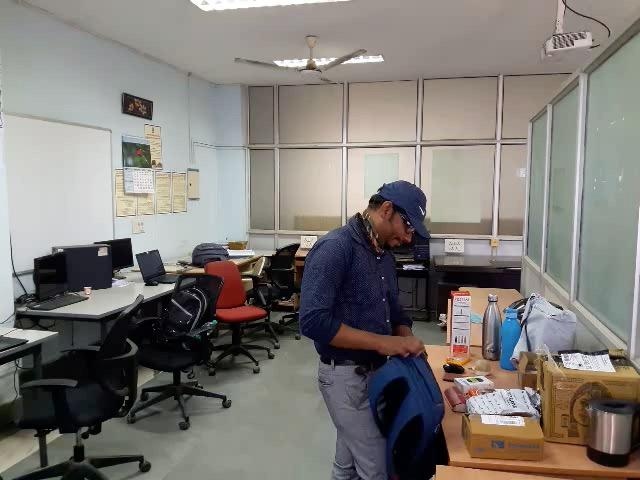shoplifting: (271, 254, 467, 480)
